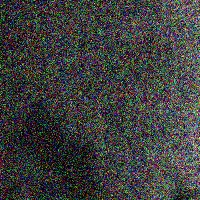patches: (99, 109, 178, 196)
